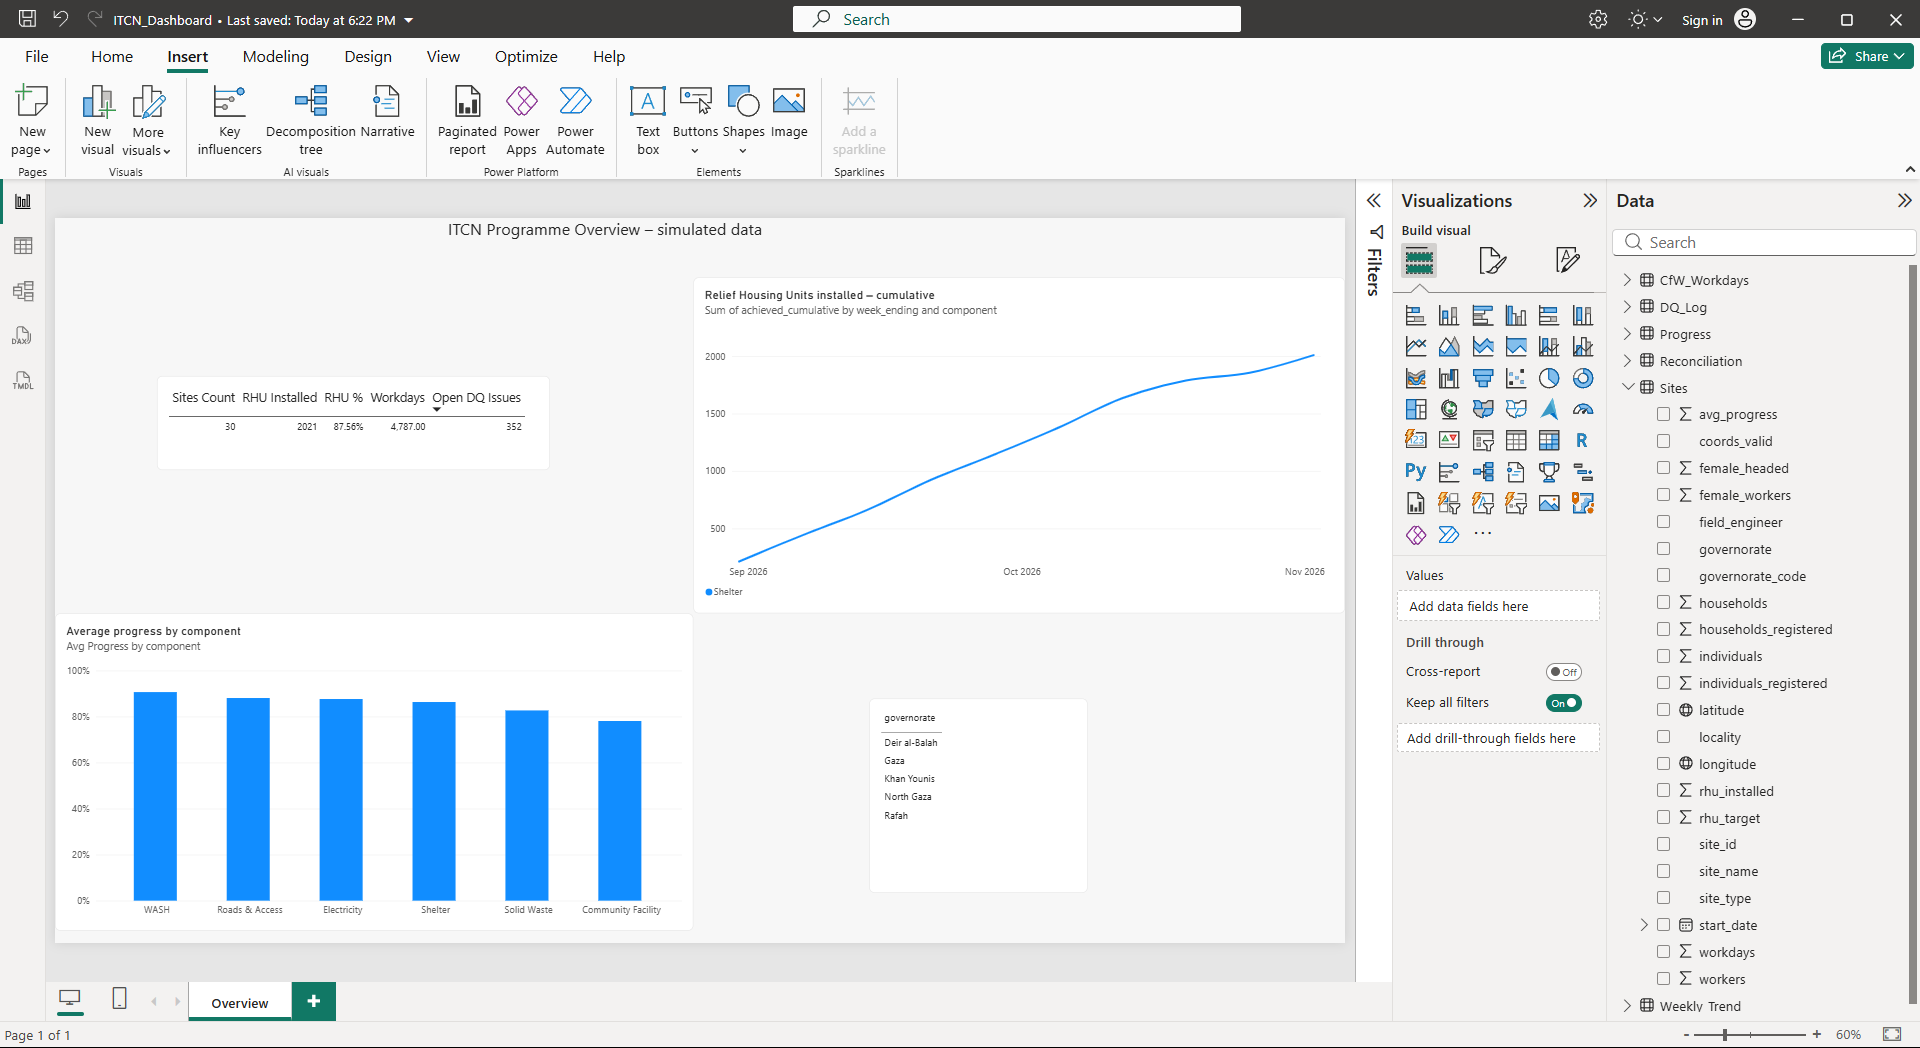

Layout of this report page (visuals, bound fields, positions):
{"tool":"powerbi","page":{"name":"Overview","canvas":[1920,1080],"ordinal":0},"visuals":[{"type":"clusteredColumnChart","title":"Average progress by component","fields":{"Category":["Progress.component"],"Y":["Progress.Avg Progress"]},"box":[0,588.3,950,472.5],"z":0},{"type":"lineChart","title":"Relief Housing Units installed – cumulative","fields":{"Category":["Weekly_Trend.week_ending"],"Series":["Weekly_Trend.component"],"Y":["Sum(Weekly_Trend.achieved_cumulative)"]},"box":[950,88.3,970,500],"z":1000},{"type":"tableEx","fields":{"Values":["Progress.Sites Count","Progress.RHU Installed","Progress.RHU %","Progress.Workdays","Progress.Open DQ Issues"]},"box":[152.4,234.9,585,140],"z":2000},{"type":"tableEx","fields":{"Values":["Sites.governorate"]},"box":[1211.1,714.3,325.4,288.9],"z":3000},{"type":"textbox","box":[585,0,625,50],"z":4000}]}

Visuals, with their boxes on the page's 1920x1080 design canvas (x1, y1, x2, y2). These are canvas units, not pixel positions in the 1920x1048 screenshot, which may show the page scaled, cropped or inside an application window:
"Average progress by component" clusteredColumnChart: [left=0, top=588, right=950, bottom=1061]
"Relief Housing Units installed – cumulative" lineChart: [left=950, top=88, right=1920, bottom=588]
tableEx - Progress.Sites Count x Progress.RHU Installed: [left=152, top=235, right=737, bottom=375]
tableEx - Sites.governorate: [left=1211, top=714, right=1536, bottom=1003]
textbox: [left=585, top=0, right=1210, bottom=50]
